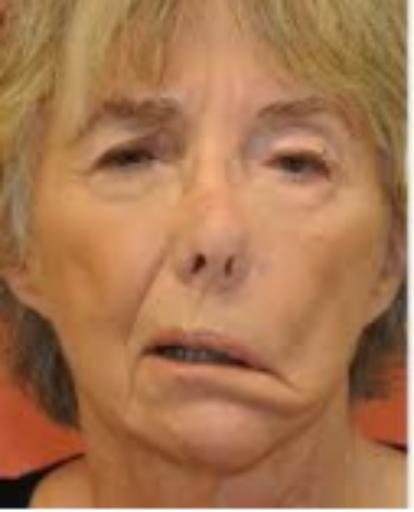left_eye: (263, 145, 339, 185)
left_lip_corner: (261, 352, 301, 394)
right_eye: (89, 142, 167, 177)
right_lip_corner: (129, 334, 165, 370)
